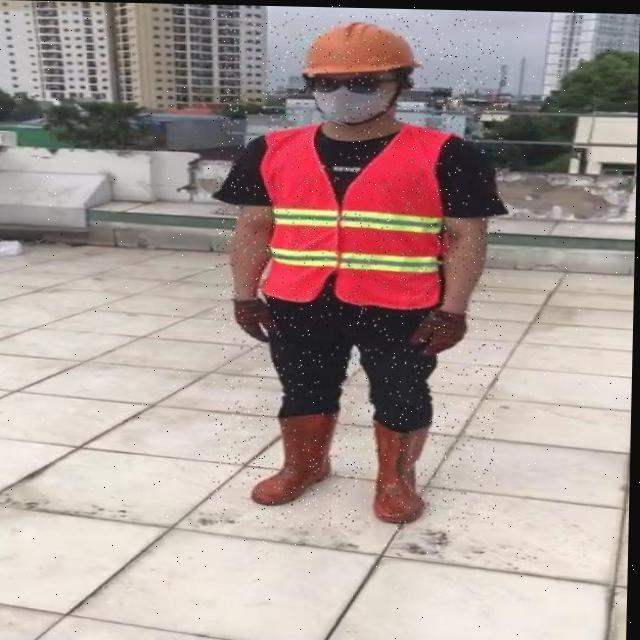Gloves: (409, 306, 468, 355), (233, 296, 276, 341)
Helmet: (300, 19, 422, 80)
Safety-Boot: (252, 409, 338, 505), (373, 415, 430, 522)
Safety-Vest: (257, 117, 459, 309)
